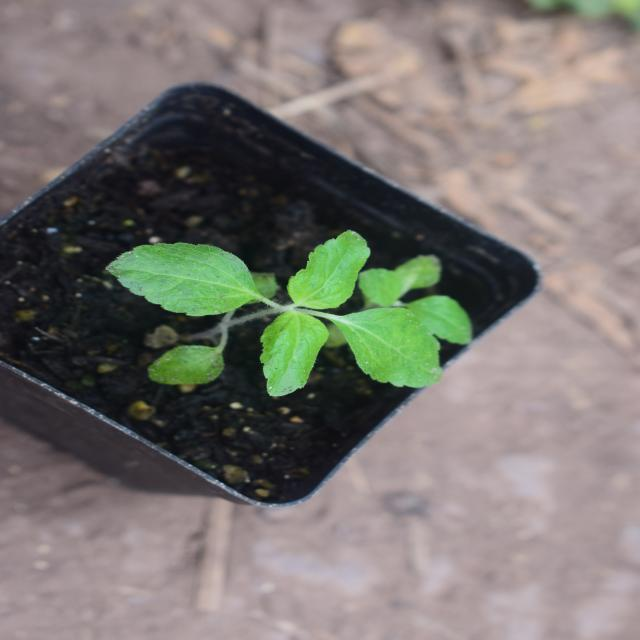billygoat_weed: (226, 202, 405, 505)
